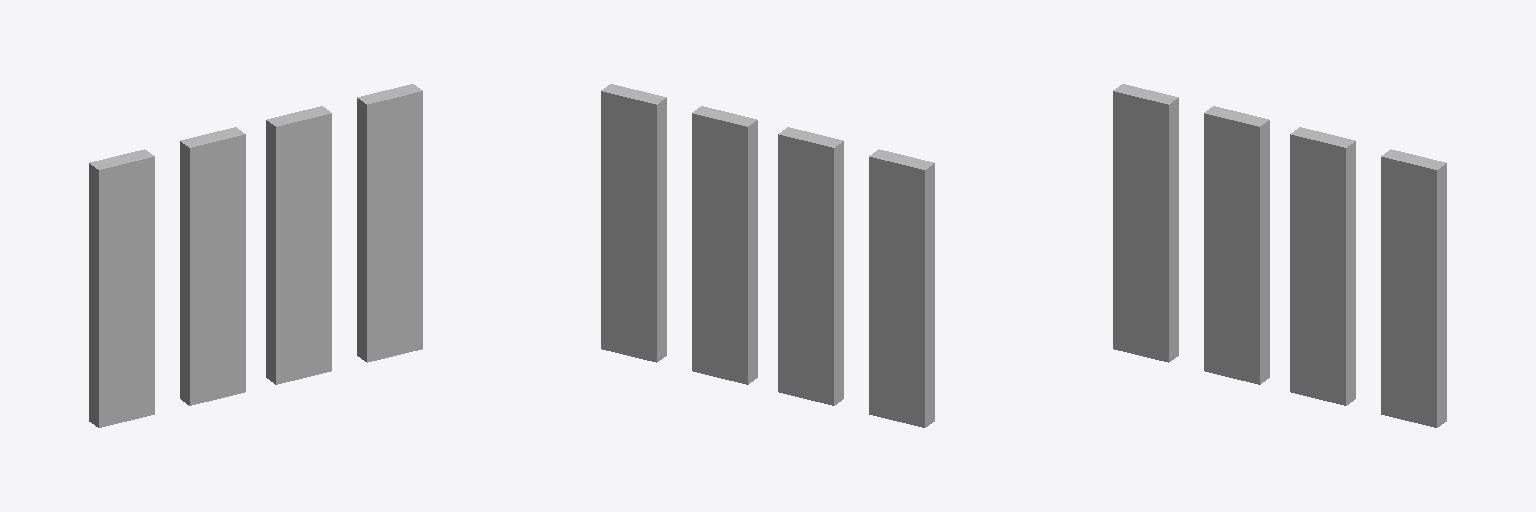
The model's file is LED.obj.
The picture shows the model from 3 angles: view 1: azimuth 30°, elevation 25°; view 2: azimuth 150°, elevation 25°; view 3: azimuth 330°, elevation 25°; orthographic projection.
Parts seen in each view (by area): view 1: Untitled, Untitled.002, Untitled.001; view 2: Untitled.001, Untitled.002, Untitled; view 3: Untitled, Untitled.001, Untitled.002.
Boxes of the visible parts, x1=… form: Untitled: x1=94, y1=88, x2=422, y2=427; Untitled.002: x1=180, y1=84, x2=417, y2=401; Untitled.001: x1=89, y1=106, x2=326, y2=423; Untitled.001: x1=692, y1=110, x2=929, y2=427; Untitled.002: x1=601, y1=88, x2=838, y2=405; Untitled: x1=606, y1=84, x2=934, y2=423; Untitled: x1=1113, y1=88, x2=1441, y2=427; Untitled.001: x1=1118, y1=84, x2=1355, y2=401; Untitled.002: x1=1209, y1=106, x2=1446, y2=423.
Bounding box in the file's own units: 7.5 × 5.7 × 0.4.